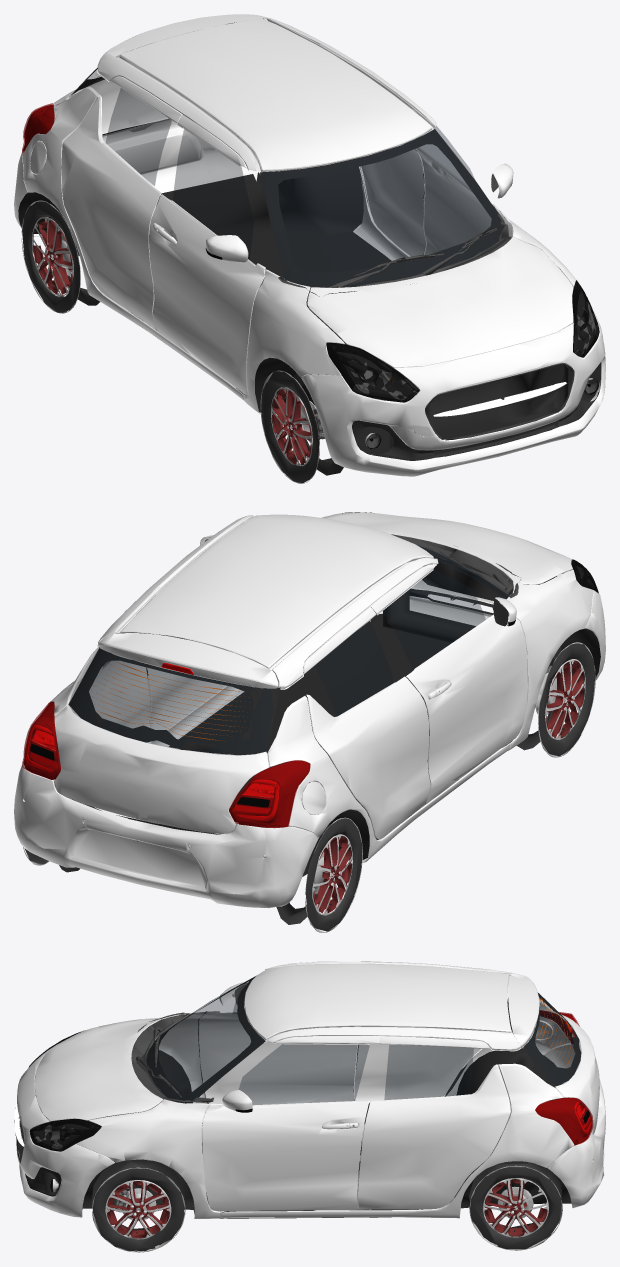
The model's file is compact_swift_lod1.glb.
3 views of the same model, one above another, from view 1: azimuth 30°, elevation 25°; view 2: azimuth 150°, elevation 25°; view 3: azimuth 270°, elevation 25° (orthographic). The views are drawn at different scales.
Visible parts, largest first — view 1: Mesh34_M_2022_Suzuki_Swift_Pearl_Ablaze_Red_0, Mesh15_M_2022_Suzuki_Swift_SWIFT_ZP_EX_PARTS_GLASS_MAT_0, Mesh18_M_2022_Suzuki_Swift_SWIFT_ZXIP_GAPFILL_MAT_0, Mesh44_M_2022_Suzuki_Swift_SWIFT_ZP_EX_LIGHTS_HEADLIGHT_BLAC, Mesh13_M_2022_Suzuki_Swift_SWIFT_Z_EX_LIGHTS_HEADLIGHT_GLASS, Mesh6_M_2022_Suzuki_Swift_SWIFT_ZP_EX_WHEEL_BLACK_MAT_0, Mesh43_M_2022_Suzuki_Swift_SWIFT_ZP_EX_PARTS_BLACKPLASTIC_MA, Mesh21_M_2022_Suzuki_Swift_SWIFT_ZP_EX_PARTS_WIPERBLACKPLAST, Mesh5_M_2022_Suzuki_Swift_SWIFT_ZP_EX_WHEEL_CHROME_PLATED_MA, Mesh2_M_2022_Suzuki_Swift_SWIFT_ZP_EX_PARTS_GLOSSY_BLACKPLAS, Mesh1_M_2022_Suzuki_Swift_SWIFT_ZP_EX_PARTS_CHROME_MAT_0, Mesh4_M_2022_Suzuki_Swift_SWIFT_ZP_EX_WHEEL_REAR_BREAKS_DRUM (+2 smaller); view 2: Mesh34_M_2022_Suzuki_Swift_Pearl_Ablaze_Red_0, Mesh15_M_2022_Suzuki_Swift_SWIFT_ZP_EX_PARTS_GLASS_MAT_0, Mesh18_M_2022_Suzuki_Swift_SWIFT_ZXIP_GAPFILL_MAT_0, Mesh44_M_2022_Suzuki_Swift_SWIFT_ZP_EX_LIGHTS_HEADLIGHT_BLAC, Mesh62_M_2022_Suzuki_Swift_SWIFT_ZP_EX_LIGHTS_TAILLIGHT_READ, Mesh66_M_2022_Suzuki_Swift_SWIFT_ZP_EX_LIGHTS_TAILLIGHT_CHRO, Mesh6_M_2022_Suzuki_Swift_SWIFT_ZP_EX_WHEEL_BLACK_MAT_0, Mesh21_M_2022_Suzuki_Swift_SWIFT_ZP_EX_PARTS_WIPERBLACKPLAST, Mesh80_M_2022_Suzuki_Swift_SWIFT_ZP_EX_LIGHTS_TAILLIGHT_RED_, Mesh5_M_2022_Suzuki_Swift_SWIFT_ZP_EX_WHEEL_CHROME_PLATED_MA, Mesh77_M_2022_Suzuki_Swift_SWIFT_ZP_EX_PARTS_DEFOGERLINES_MA, Mesh4_M_2022_Suzuki_Swift_SWIFT_ZP_EX_WHEEL_REAR_BREAKS_DRUM (+1 smaller); view 3: Mesh34_M_2022_Suzuki_Swift_Pearl_Ablaze_Red_0, Mesh15_M_2022_Suzuki_Swift_SWIFT_ZP_EX_PARTS_GLASS_MAT_0, Mesh18_M_2022_Suzuki_Swift_SWIFT_ZXIP_GAPFILL_MAT_0, Mesh44_M_2022_Suzuki_Swift_SWIFT_ZP_EX_LIGHTS_HEADLIGHT_BLAC, Mesh6_M_2022_Suzuki_Swift_SWIFT_ZP_EX_WHEEL_BLACK_MAT_0, Mesh5_M_2022_Suzuki_Swift_SWIFT_ZP_EX_WHEEL_CHROME_PLATED_MA, Mesh21_M_2022_Suzuki_Swift_SWIFT_ZP_EX_PARTS_WIPERBLACKPLAST, Mesh13_M_2022_Suzuki_Swift_SWIFT_Z_EX_LIGHTS_HEADLIGHT_GLASS, Mesh66_M_2022_Suzuki_Swift_SWIFT_ZP_EX_LIGHTS_TAILLIGHT_CHRO, Mesh62_M_2022_Suzuki_Swift_SWIFT_ZP_EX_LIGHTS_TAILLIGHT_READ, Mesh4_M_2022_Suzuki_Swift_SWIFT_ZP_EX_WHEEL_REAR_BREAKS_DRUM, Mesh43_M_2022_Suzuki_Swift_SWIFT_ZP_EX_PARTS_BLACKPLASTIC_MA.
Part boxes in pixels (x1,y1,x2,y2): Mesh34_M_2022_Suzuki_Swift_Pearl_Ablaze_Red_0: (14,14,605,476); Mesh15_M_2022_Suzuki_Swift_SWIFT_ZP_EX_PARTS_GLASS_MAT_0: (74,55,504,287); Mesh18_M_2022_Suzuki_Swift_SWIFT_ZXIP_GAPFILL_MAT_0: (18,18,600,457); Mesh44_M_2022_Suzuki_Swift_SWIFT_ZP_EX_LIGHTS_HEADLIGHT_BLAC: (22,201,598,482); Mesh13_M_2022_Suzuki_Swift_SWIFT_Z_EX_LIGHTS_HEADLIGHT_GLASS: (326,280,599,449); Mesh6_M_2022_Suzuki_Swift_SWIFT_ZP_EX_WHEEL_BLACK_MAT_0: (32,219,311,464); Mesh43_M_2022_Suzuki_Swift_SWIFT_ZP_EX_PARTS_BLACKPLASTIC_MA: (352,362,601,460); Mesh21_M_2022_Suzuki_Swift_SWIFT_ZP_EX_PARTS_WIPERBLACKPLAST: (278,206,511,296); Mesh5_M_2022_Suzuki_Swift_SWIFT_ZP_EX_WHEEL_CHROME_PLATED_MA: (32,217,312,466); Mesh2_M_2022_Suzuki_Swift_SWIFT_ZP_EX_PARTS_GLOSSY_BLACKPLAS: (425,363,574,440); Mesh1_M_2022_Suzuki_Swift_SWIFT_ZP_EX_PARTS_CHROME_MAT_0: (433,382,566,416); Mesh4_M_2022_Suzuki_Swift_SWIFT_ZP_EX_WHEEL_REAR_BREAKS_DRUM: (21,124,319,483); Mesh34_M_2022_Suzuki_Swift_Pearl_Ablaze_Red_0: (14,512,605,908); Mesh15_M_2022_Suzuki_Swift_SWIFT_ZP_EX_PARTS_GLASS_MAT_0: (68,544,507,754); Mesh18_M_2022_Suzuki_Swift_SWIFT_ZXIP_GAPFILL_MAT_0: (47,556,600,876); Mesh44_M_2022_Suzuki_Swift_SWIFT_ZP_EX_LIGHTS_HEADLIGHT_BLAC: (24,560,595,931); Mesh62_M_2022_Suzuki_Swift_SWIFT_ZP_EX_LIGHTS_TAILLIGHT_READ: (22,701,310,828); Mesh66_M_2022_Suzuki_Swift_SWIFT_ZP_EX_LIGHTS_TAILLIGHT_CHRO: (23,702,310,827); Mesh6_M_2022_Suzuki_Swift_SWIFT_ZP_EX_WHEEL_BLACK_MAT_0: (313,661,584,913); Mesh21_M_2022_Suzuki_Swift_SWIFT_ZP_EX_PARTS_WIPERBLACKPLAST: (391,534,520,598); Mesh80_M_2022_Suzuki_Swift_SWIFT_ZP_EX_LIGHTS_TAILLIGHT_RED_: (25,724,279,820); Mesh5_M_2022_Suzuki_Swift_SWIFT_ZP_EX_WHEEL_CHROME_PLATED_MA: (312,659,585,915); Mesh77_M_2022_Suzuki_Swift_SWIFT_ZP_EX_PARTS_DEFOGERLINES_MA: (98,663,245,740); Mesh4_M_2022_Suzuki_Swift_SWIFT_ZP_EX_WHEEL_REAR_BREAKS_DRUM: (23,610,595,932); Mesh34_M_2022_Suzuki_Swift_Pearl_Ablaze_Red_0: (16,961,605,1218); Mesh15_M_2022_Suzuki_Swift_SWIFT_ZP_EX_PARTS_GLASS_MAT_0: (146,976,581,1104); Mesh18_M_2022_Suzuki_Swift_SWIFT_ZXIP_GAPFILL_MAT_0: (18,976,586,1218); Mesh44_M_2022_Suzuki_Swift_SWIFT_ZP_EX_LIGHTS_HEADLIGHT_BLAC: (30,1120,561,1251); Mesh6_M_2022_Suzuki_Swift_SWIFT_ZP_EX_WHEEL_BLACK_MAT_0: (107,1179,547,1238); Mesh5_M_2022_Suzuki_Swift_SWIFT_ZP_EX_WHEEL_CHROME_PLATED_MA: (105,1178,548,1239); Mesh21_M_2022_Suzuki_Swift_SWIFT_ZP_EX_PARTS_WIPERBLACKPLAST: (131,1012,213,1102); Mesh13_M_2022_Suzuki_Swift_SWIFT_Z_EX_LIGHTS_HEADLIGHT_GLASS: (28,1030,101,1191); Mesh66_M_2022_Suzuki_Swift_SWIFT_ZP_EX_LIGHTS_TAILLIGHT_CHRO: (535,1010,592,1145); Mesh62_M_2022_Suzuki_Swift_SWIFT_ZP_EX_LIGHTS_TAILLIGHT_READ: (535,1012,593,1145); Mesh4_M_2022_Suzuki_Swift_SWIFT_ZP_EX_WHEEL_REAR_BREAKS_DRUM: (92,1165,562,1252); Mesh43_M_2022_Suzuki_Swift_SWIFT_ZP_EX_PARTS_BLACKPLASTIC_MA: (25,1167,61,1196).
Size of the model in its own units: 1.85 by 1.49 by 3.84.
